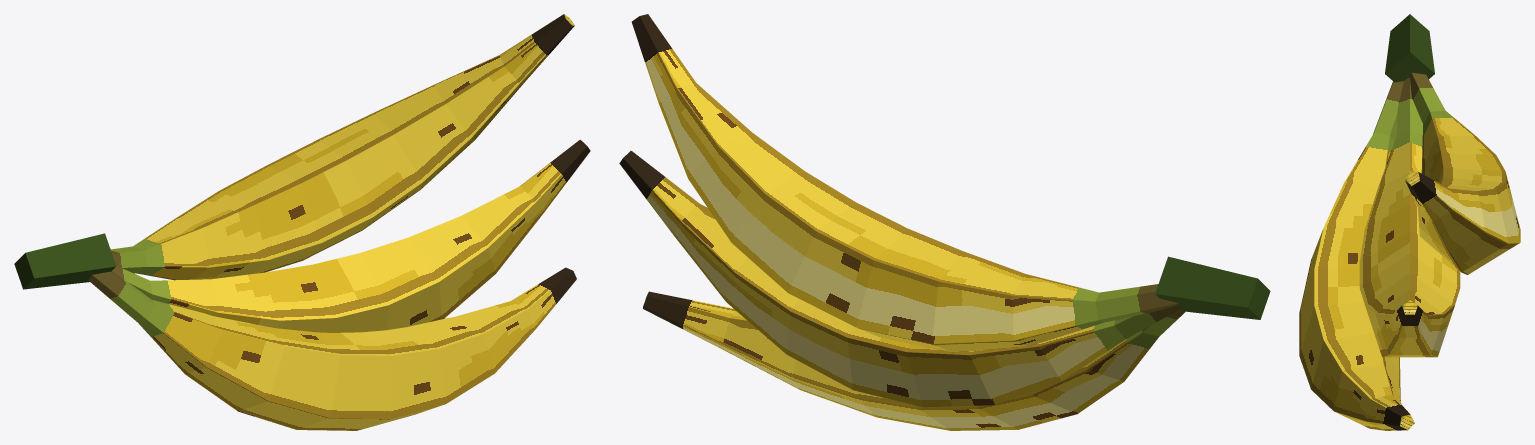
File: produce-banana.glb
3 views of the same model, side by side, from view 1: azimuth 30°, elevation 25°; view 2: azimuth 150°, elevation 25°; view 3: azimuth 270°, elevation 25° (orthographic). The views are drawn at different scales.
Visible parts, largest first — view 1: produce.banana; view 2: produce.banana; view 3: produce.banana.
Boxes of the visible parts, bbox=[...] form: produce.banana: bbox=[14, 14, 590, 430]; produce.banana: bbox=[619, 14, 1270, 430]; produce.banana: bbox=[1299, 14, 1520, 430].
Size of the model in its own units: 1.82 by 1.03 by 0.6329.
Materials: 2 (1 with a texture image).
